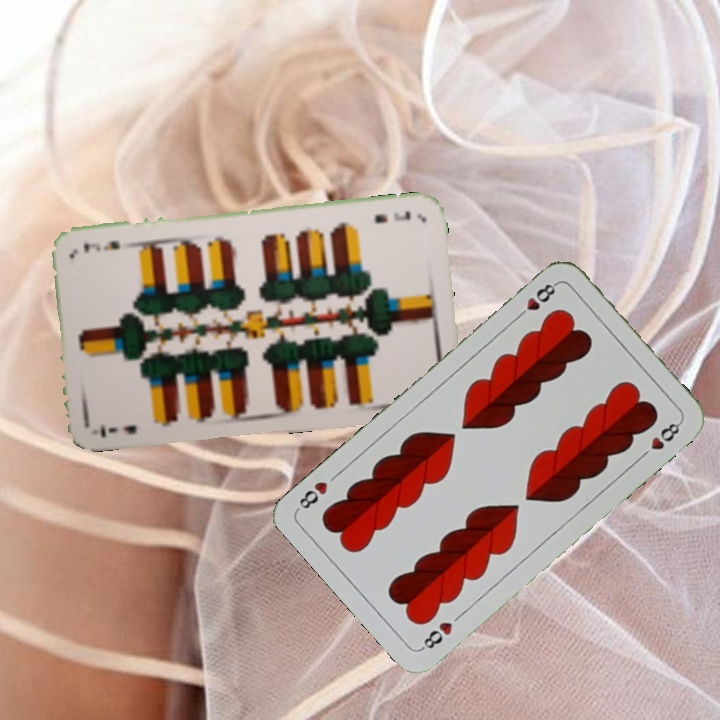E7: (96, 420, 139, 441), (371, 207, 413, 226)
H8: (512, 278, 561, 322), (417, 617, 455, 653)
